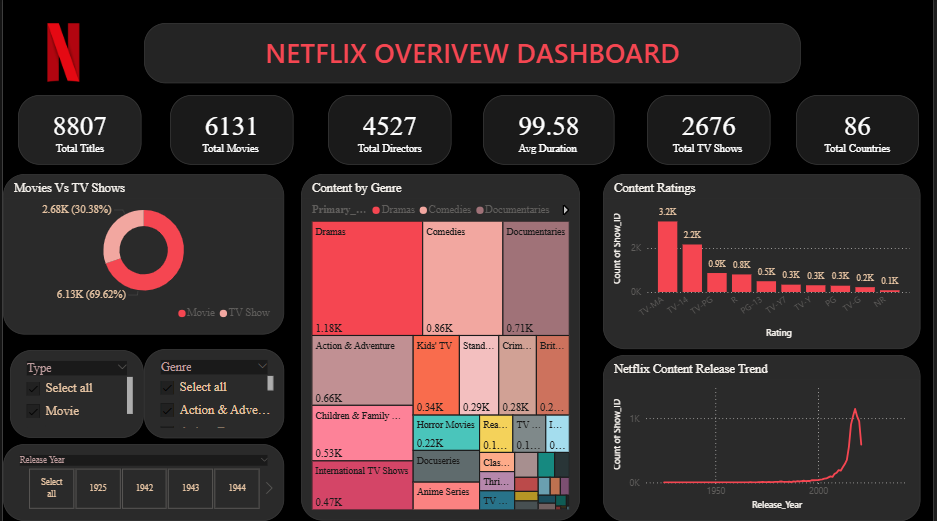

What the dashboard file says about the page in this screenshot:
{"tool":"powerbi","page":{"name":"Executive Overview","canvas":[1280,720],"ordinal":0},"visuals":[{"type":"card","fields":{"Values":["Count(netflix_titles (Autosaved).Show_ID)"]},"box":[20,132.9,170,95.7],"z":0},{"type":"card","fields":{"Values":["Count(netflix_titles (Autosaved).Show_ID)"]},"box":[230,132.9,170,95.7],"z":1000},{"type":"card","fields":{"Values":["CountNonNull(netflix_titles (Autosaved).Show_ID)"]},"box":[885.7,132.9,170,95.7],"z":2000},{"type":"card","fields":{"Values":["Count(netflix_titles (Autosaved).Primary_Country)"]},"box":[1091.4,132.9,168.6,95.7],"z":3000},{"type":"card","fields":{"Values":["Count(netflix_titles (Autosaved).Director)"]},"box":[447.1,132.9,170,95.7],"z":4000},{"type":"card","fields":{"Values":["Avg(netflix_titles (Autosaved).Duration_value)"]},"box":[660,132.9,181.4,95.7],"z":5000},{"type":"donutChart","title":"Movies Vs TV Shows ","fields":{"Category":["netflix_titles (Autosaved).Type"],"Y":["CountNonNull(netflix_titles (Autosaved).Show_ID)"]},"box":[0,242.9,387.1,221.4],"z":6000},{"type":"lineChart","title":"Netflix Content Release Trend","fields":{"Category":["netflix_titles (Autosaved).Release_Year"],"Y":["CountNonNull(netflix_titles (Autosaved).Show_ID)"]},"box":[825.7,491.4,437.1,228.6],"z":7000},{"type":"treemap","title":"Content by Genre","fields":{"Group":["netflix_titles (Autosaved).Primary_Genre"],"Values":["Count(netflix_titles (Autosaved).Show_ID)"]},"box":[410,242.9,384.3,477.1],"z":8000},{"type":"clusteredColumnChart","title":"Content Ratings","fields":{"Category":["netflix_titles (Autosaved).Rating"],"Y":["CountNonNull(netflix_titles (Autosaved).Show_ID)"]},"box":[825.7,242.9,437.1,241.4],"z":9000},{"type":"slicer","fields":{"Values":["netflix_titles (Autosaved).Release_Year"]},"box":[0,614.3,387.1,105.7],"z":10000},{"type":"slicer","fields":{"Values":["netflix_titles (Autosaved).Primary_Genre"]},"box":[194.3,482.9,192.9,122.9],"z":11000},{"type":"slicer","fields":{"Values":["netflix_titles (Autosaved).Type"]},"box":[10,484.3,184.3,121.4],"z":12000},{"type":"image","box":[0,0,162.9,150],"z":13000},{"type":"textbox","box":[194.3,34.3,904.3,82.9],"z":14000}]}

Visuals, with their boxes in screenshot pixels (x1, y1, x2, y2), scaled from the page's 1280x720 canvas onto the 937x521 screenshot:
card - Count(netflix_titles (Autosaved).Show_ID): {"left": 15, "top": 96, "right": 139, "bottom": 165}
card - Count(netflix_titles (Autosaved).Show_ID): {"left": 168, "top": 96, "right": 293, "bottom": 165}
card - CountNonNull(netflix_titles (Autosaved).Show_ID): {"left": 648, "top": 96, "right": 773, "bottom": 165}
card - Count(netflix_titles (Autosaved).Primary_Country): {"left": 799, "top": 96, "right": 922, "bottom": 165}
card - Count(netflix_titles (Autosaved).Director): {"left": 327, "top": 96, "right": 452, "bottom": 165}
card - Avg(netflix_titles (Autosaved).Duration_value): {"left": 483, "top": 96, "right": 616, "bottom": 165}
"Movies Vs TV Shows " donutChart: {"left": 0, "top": 176, "right": 283, "bottom": 336}
"Netflix Content Release Trend" lineChart: {"left": 604, "top": 356, "right": 924, "bottom": 520}
"Content by Genre" treemap: {"left": 300, "top": 176, "right": 581, "bottom": 520}
"Content Ratings" clusteredColumnChart: {"left": 604, "top": 176, "right": 924, "bottom": 350}
slicer - netflix_titles (Autosaved).Release_Year: {"left": 0, "top": 445, "right": 283, "bottom": 520}
slicer - netflix_titles (Autosaved).Primary_Genre: {"left": 142, "top": 349, "right": 283, "bottom": 438}
slicer - netflix_titles (Autosaved).Type: {"left": 7, "top": 350, "right": 142, "bottom": 438}
image: {"left": 0, "top": 0, "right": 119, "bottom": 109}
textbox: {"left": 142, "top": 25, "right": 804, "bottom": 85}
